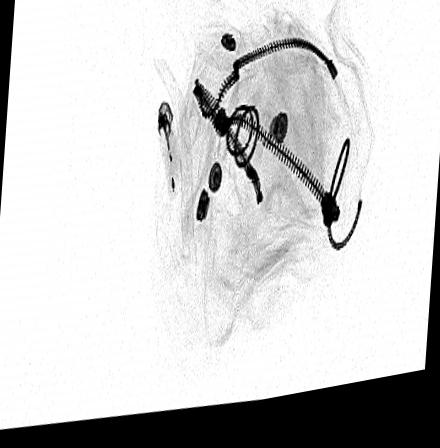Lighter: (157, 105, 187, 206)
